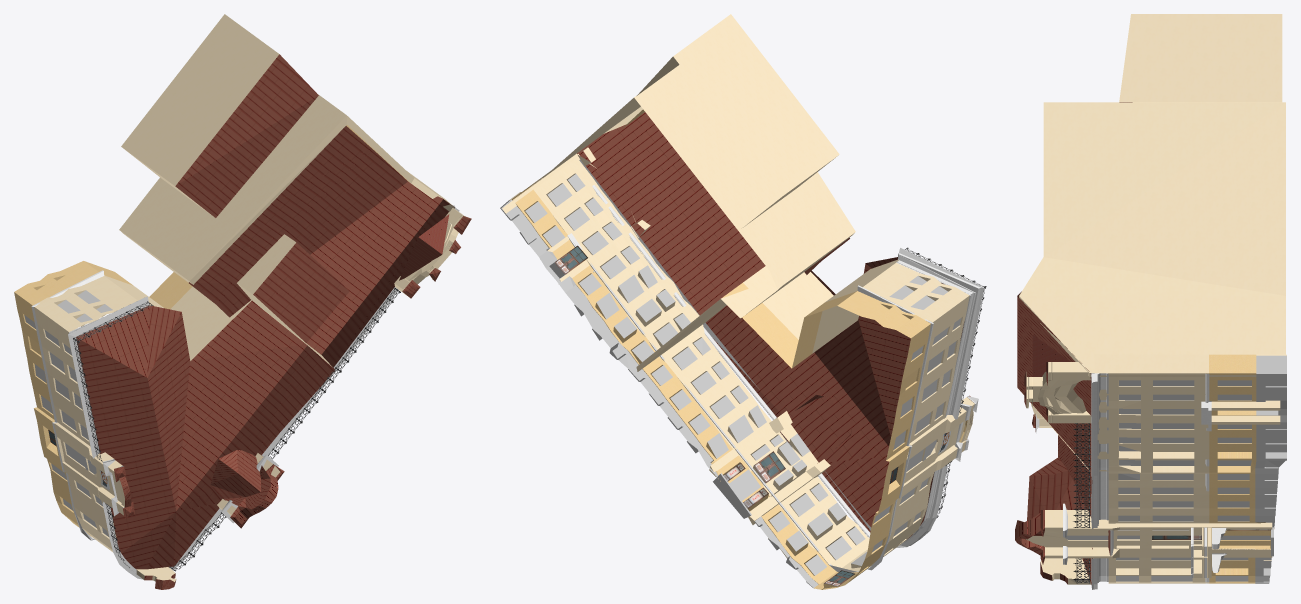
File: Lai1-origo.obj
The picture shows the model from 3 angles, left to right: view 1: azimuth 30°, elevation 25°; view 2: azimuth 150°, elevation 25°; view 3: azimuth 270°, elevation 25°; orthographic projection. The views are drawn at different scales.
Parts seen in each view (by area): view 1: Lai01; view 2: Lai01; view 3: Lai01.
Boxes of the visible parts, left/top/right/bottom form: Lai01: left=14, top=14, right=471, bottom=589; Lai01: left=500, top=14, right=986, bottom=589; Lai01: left=1015, top=14, right=1286, bottom=589.
Bounding box in the file's own units: 43.94 × 51.5 × 19.14.
